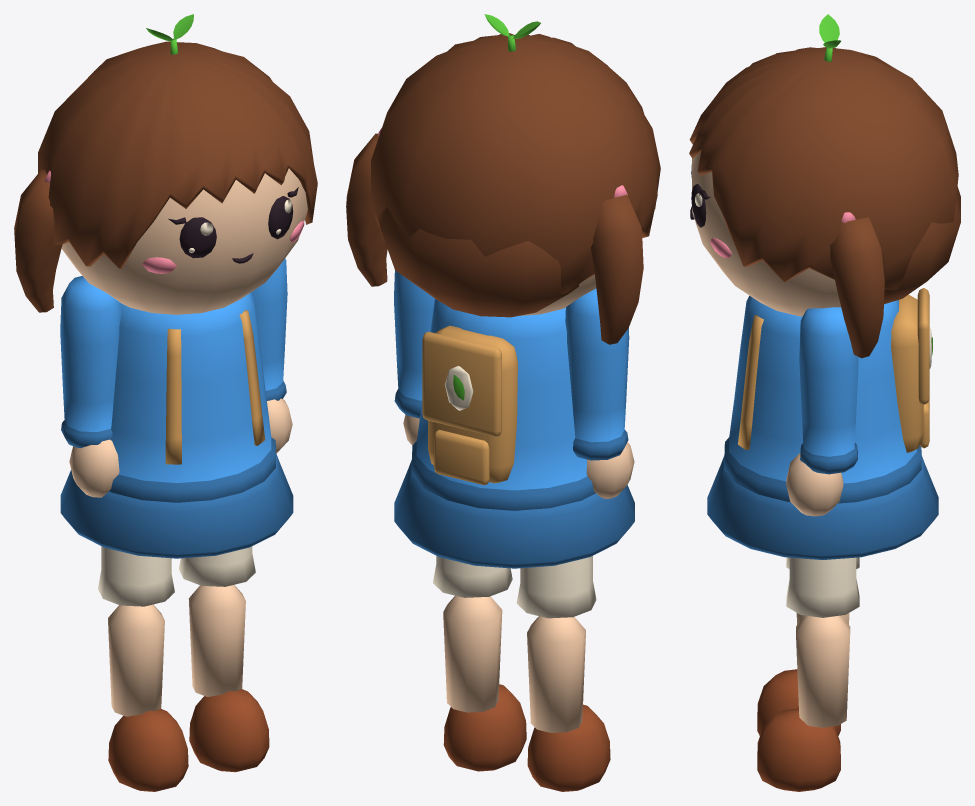
Rendered from hero-girl-tall.glb.
3 renders of one model, left to right at view 1: azimuth 30°, elevation 25°; view 2: azimuth 150°, elevation 25°; view 3: azimuth 270°, elevation 25°, orthographic. The views are drawn at different scales.
Visible parts, largest first — view 1: head, body, leg-left, leg-right, arm-left, arm-right, head-leaf; view 2: head, body, leg-left, leg-right, arm-left, arm-right, head-leaf; view 3: head, body, leg-right, arm-right, leg-left, head-leaf.
Part boxes in pixels (x1,y1,x2,y2): head: (14, 41, 317, 314); body: (60, 292, 293, 558); leg-left: (98, 546, 188, 791); leg-right: (179, 546, 269, 772); arm-left: (60, 276, 121, 497); arm-right: (251, 258, 292, 453); head-leaf: (146, 14, 193, 54); head: (346, 33, 660, 344); body: (394, 299, 634, 568); leg-left: (516, 556, 610, 791); leg-right: (433, 556, 526, 771); arm-left: (565, 288, 634, 498); arm-right: (394, 270, 434, 445); head-leaf: (484, 14, 540, 51); head: (689, 47, 960, 358); body: (707, 288, 938, 559); leg-right: (757, 557, 859, 791); arm-right: (786, 307, 858, 516); leg-left: (757, 557, 859, 735); head-leaf: (819, 14, 840, 61).
Bounding box in the file's own units: 1.1 × 2.71 × 0.9077.
